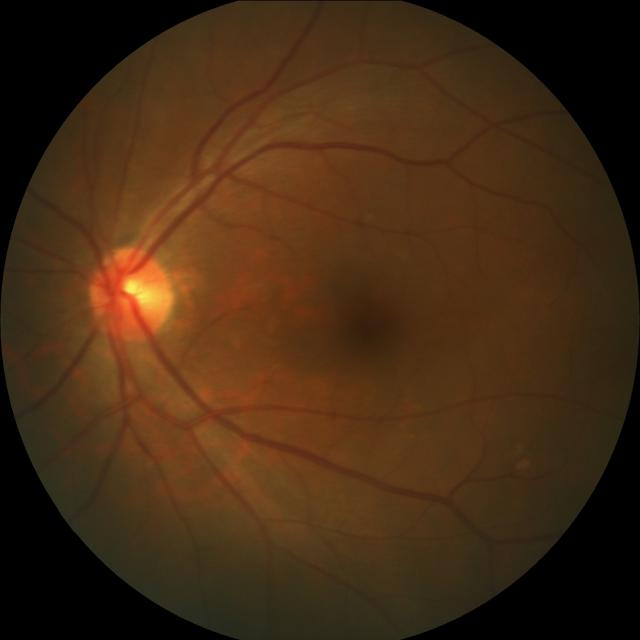OC: (115, 274, 151, 306)
OD: (88, 247, 175, 341)
